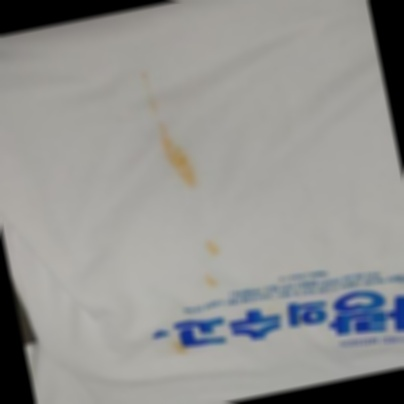kimchi: (153, 128, 200, 195), (138, 63, 156, 114), (201, 273, 217, 292), (170, 341, 187, 356), (153, 121, 165, 140), (209, 240, 223, 255), (268, 306, 277, 318), (281, 318, 290, 327), (282, 307, 287, 314)
